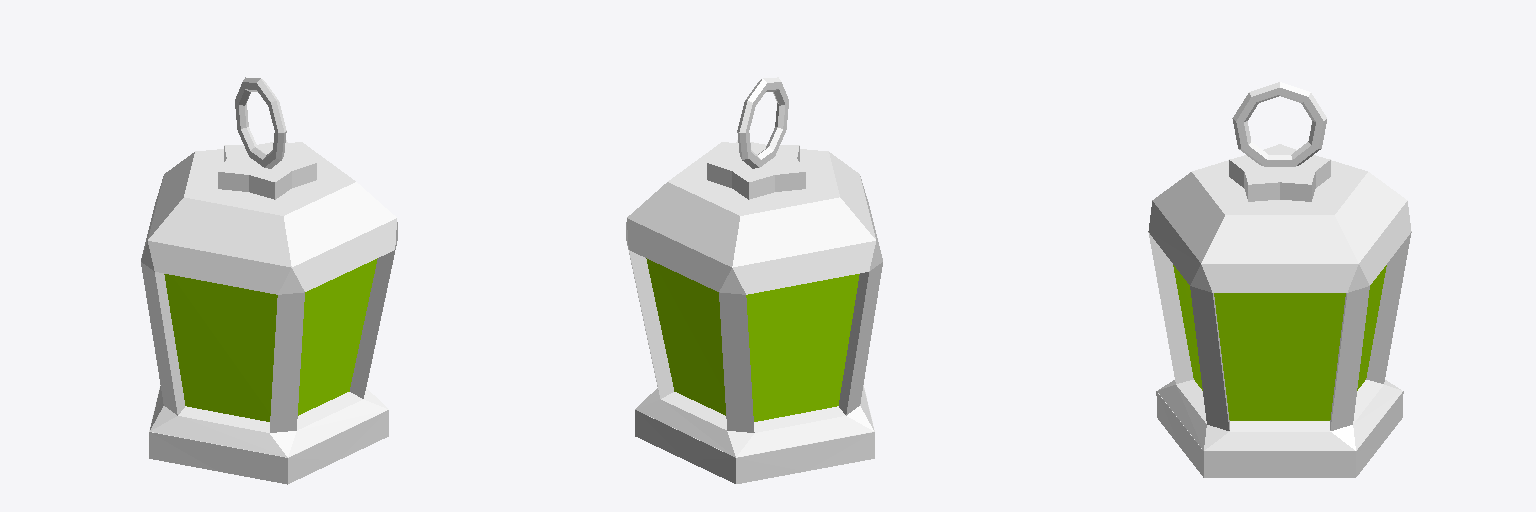
The model's file is Lantern.obj.
3 renders of one model, left to right at view 1: azimuth 30°, elevation 25°; view 2: azimuth 150°, elevation 25°; view 3: azimuth 270°, elevation 25°, orthographic.
Parts seen in each view (by area): view 1: Lantern; view 2: Lantern; view 3: Lantern.
Part boxes in pixels (x1,y1,x2,y2): Lantern: (141,77,397,484); Lantern: (626,77,882,483); Lantern: (1148,82,1411,477).
Bounding box in the file's own units: 1.32 × 2.05 × 1.38.